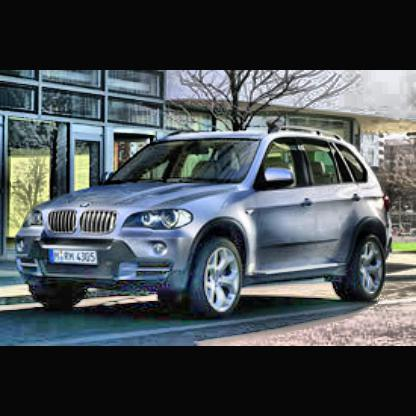BMW X5 SUV 2007: (5, 117, 413, 336)
